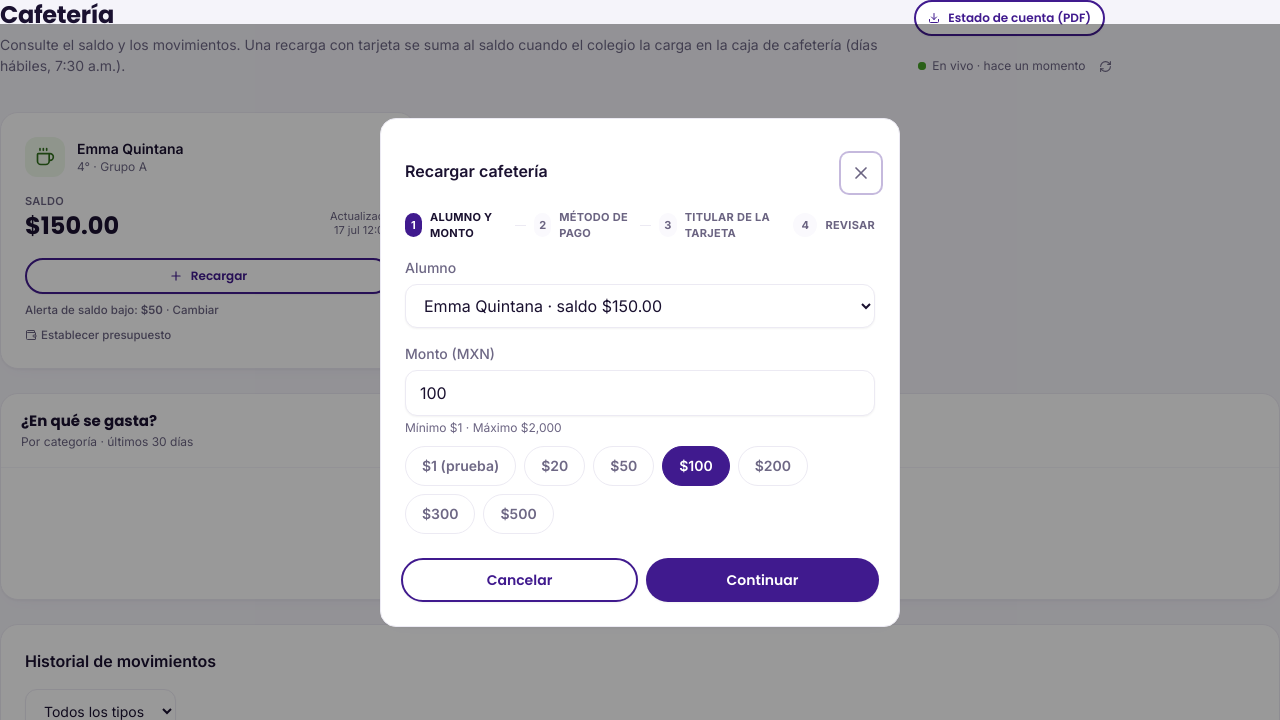
Test case: CafeteriaPage $1 test top-up › offers "$1 (prueba)" to test accounts only (owner, 2026-10-21)
This screenshot has width=1280, height=720.
Check: the dialog "Recargar cafetería" is shown, box [380,118,900,626]
Click the button "$1 (prueba)" at (461, 466), box [405,446,516,486]
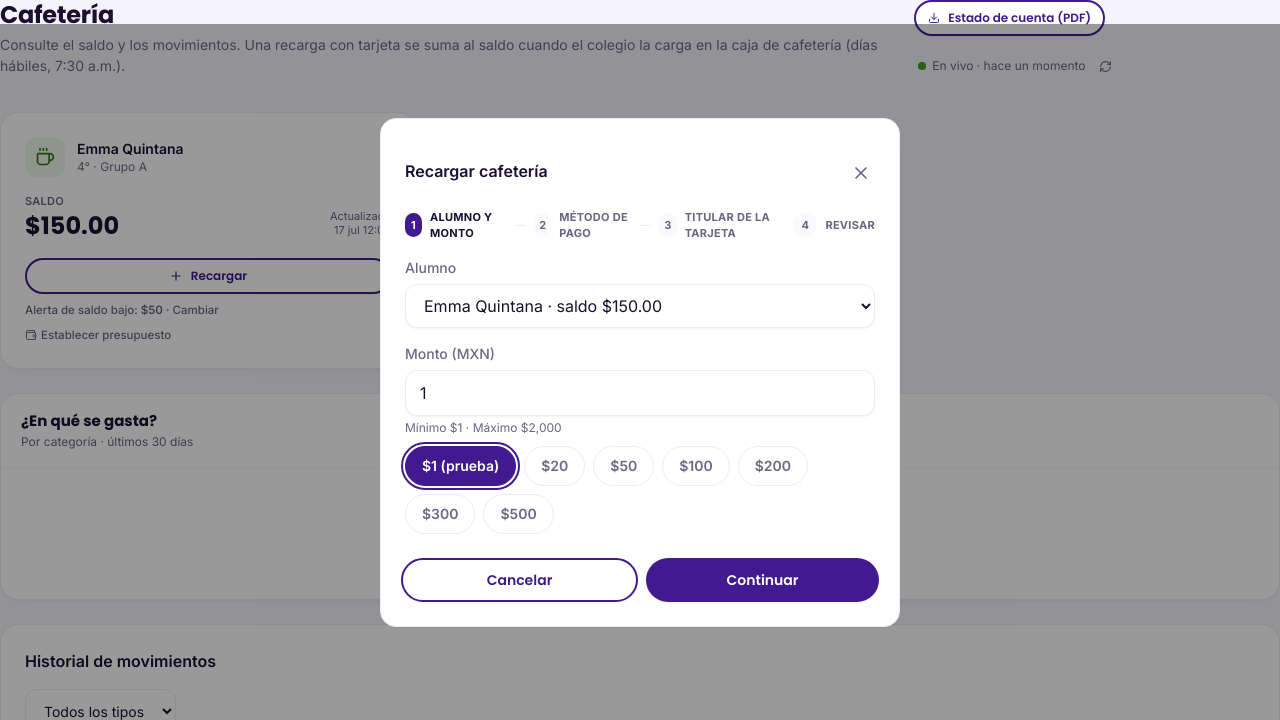
Check: the text "Mínimo $1 · Máximo $2,000" is shown, box [405,420,562,434]
Check: the number field labelled "Monto (MXN)" holds "1", box [405,370,875,416]
